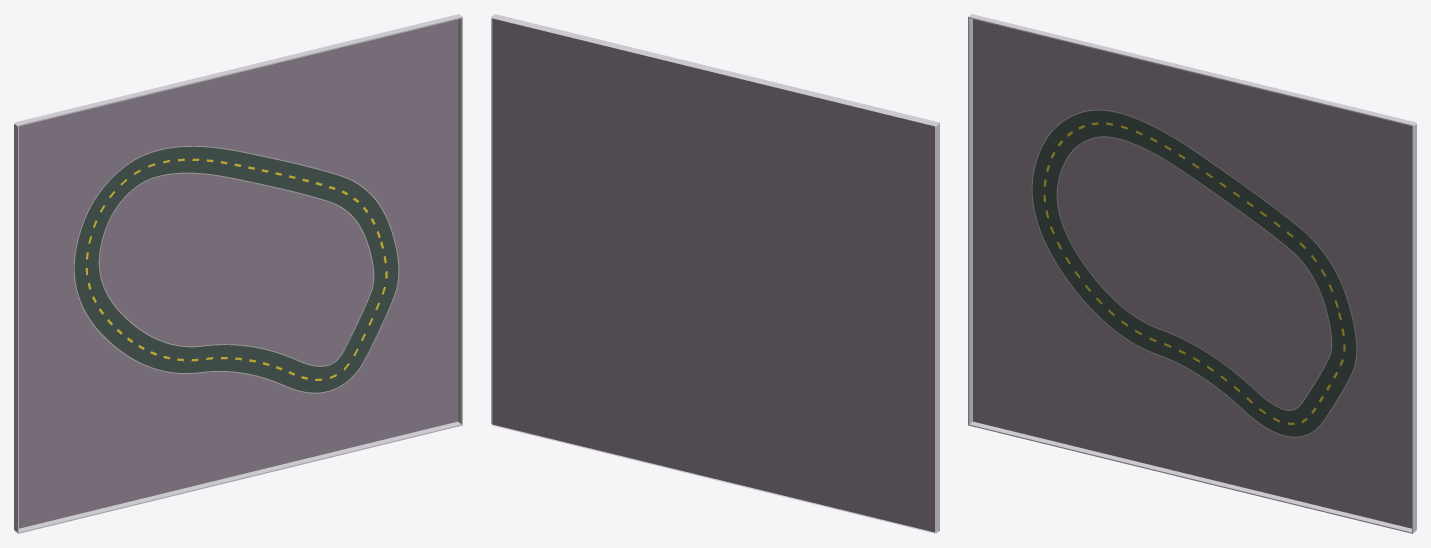
Rendered from track.obj.
The picture shows the model from 3 angles, left to right: view 1: azimuth 30°, elevation 25°; view 2: azimuth 150°, elevation 25°; view 3: azimuth 330°, elevation 25°; orthographic projection.
Bounding box in the file's own units: 19.46 × 17.07 × 0.3.
